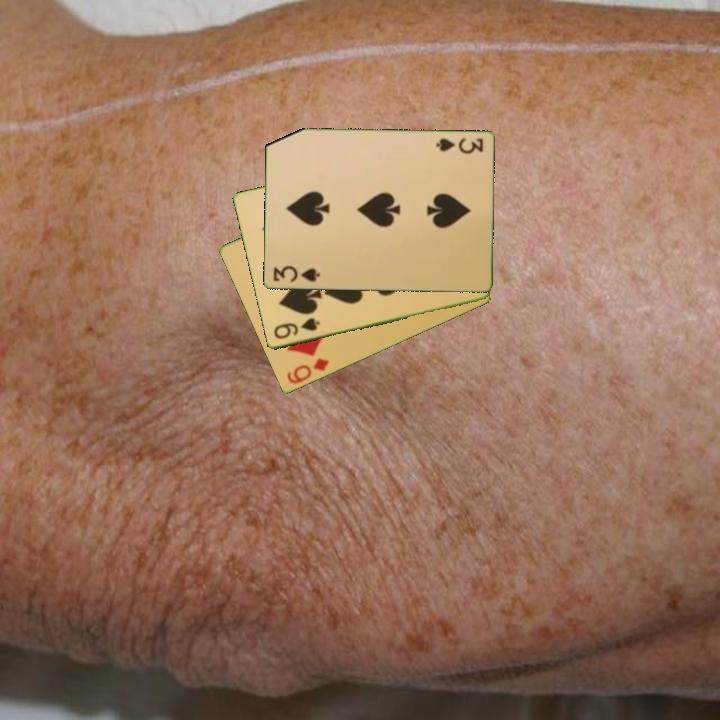3s: (432, 135, 486, 157), (269, 263, 322, 285)
6d: (283, 355, 332, 387)
9s: (270, 315, 322, 342)
